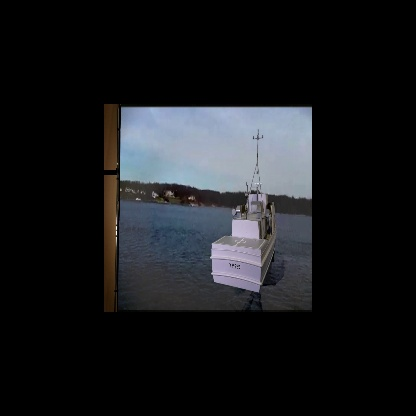YP689: (210, 128, 278, 293)
